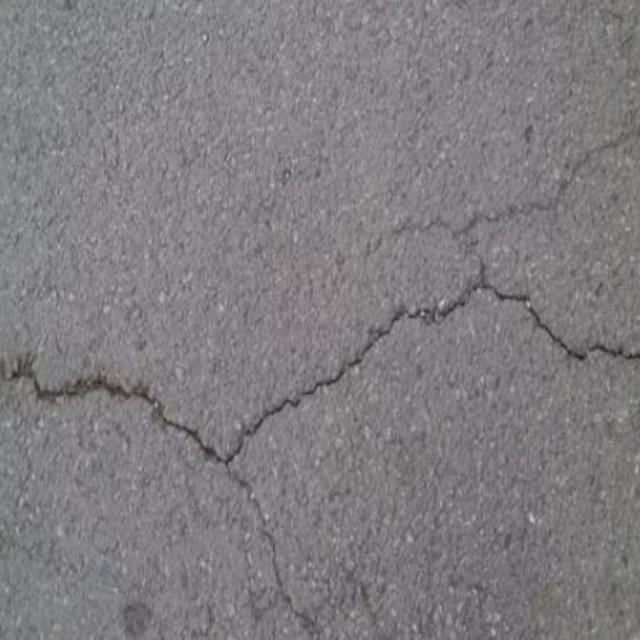Crack: (0, 270, 640, 474)
